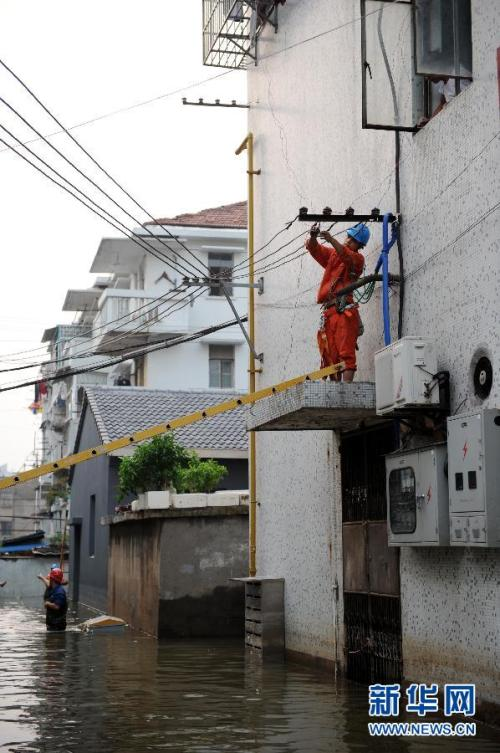hard-hat: (346, 221, 370, 246)
person: (304, 221, 371, 381)
ppe-suit: (304, 233, 367, 380)
